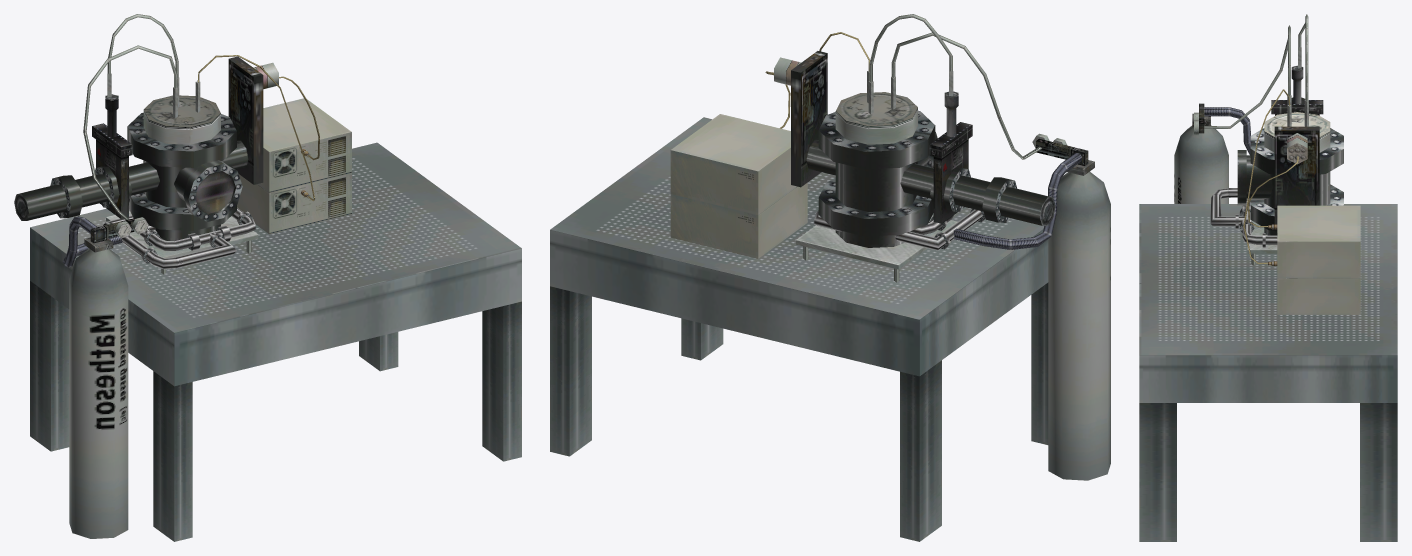
File: cvd.fbx
3 views of the same model, side by side, from view 1: azimuth 30°, elevation 25°; view 2: azimuth 150°, elevation 25°; view 3: azimuth 270°, elevation 25° (orthographic). The views are drawn at different scales.
Visible parts, largest first — view 1: mesh_1, mesh_0; view 2: mesh_1, mesh_0; view 3: mesh_1, mesh_0.
Part boxes in pixels (left/top/right/bottom): mesh_1: left=14, top=55, right=521, bottom=541; mesh_0: left=17, top=14, right=351, bottom=274; mesh_1: left=550, top=32, right=1110, bottom=541; mesh_0: left=670, top=14, right=1094, bottom=282; mesh_1: left=1139, top=65, right=1397, bottom=541; mesh_0: left=1192, top=14, right=1360, bottom=314.
Bounding box in the file's own units: 200 × 206 × 121.
Materials: 2 (2 with a texture image).
